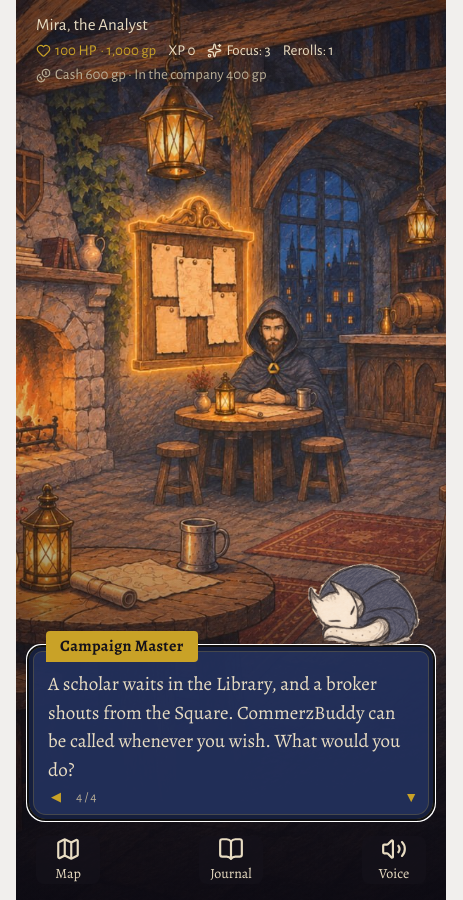
Scenario: new location with an NPC › lists the generated place on the map with a "new" marker and keeps the Tavern reachable
Earlier steps of the test are not shown.
Later steps or results of the test are not shown.
Click the element with test id "dialogue-box" at (231, 733), box x1=28 y1=646 x2=434 y2=820
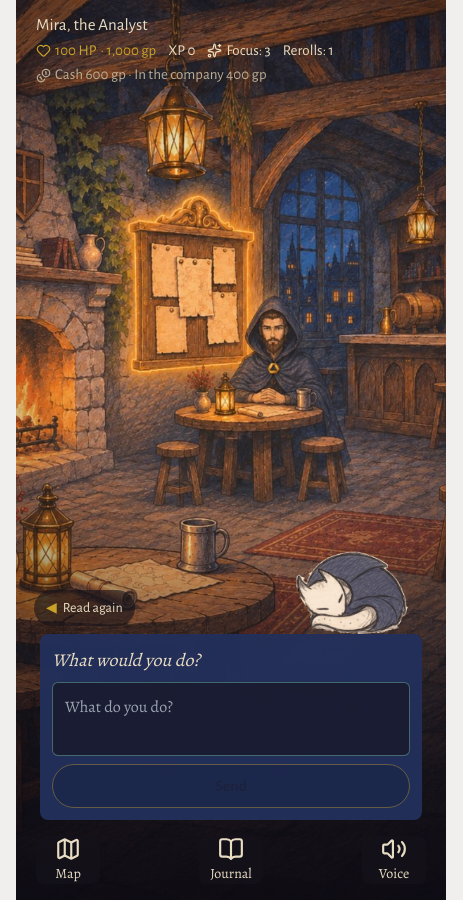
Type "visit the docks warehouse" into the text box at (231, 719), box x1=52 y1=682 x2=410 y2=756
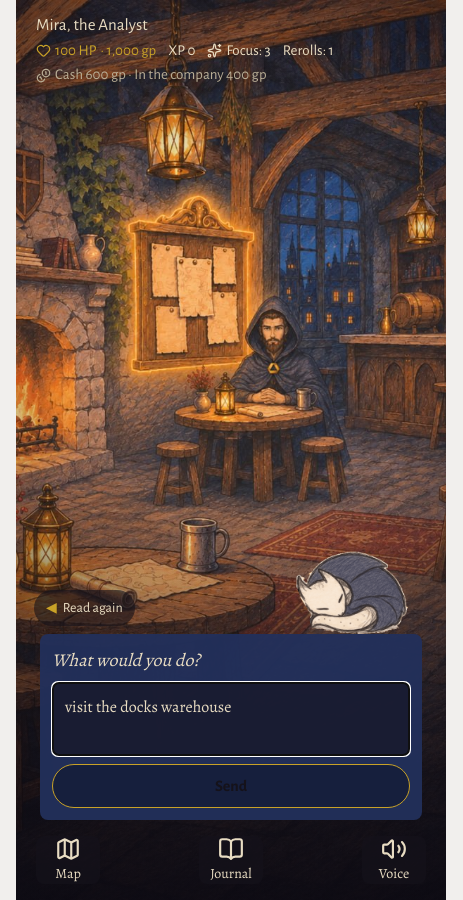
Click the button "Send" at (231, 786), box x1=52 y1=764 x2=410 y2=808
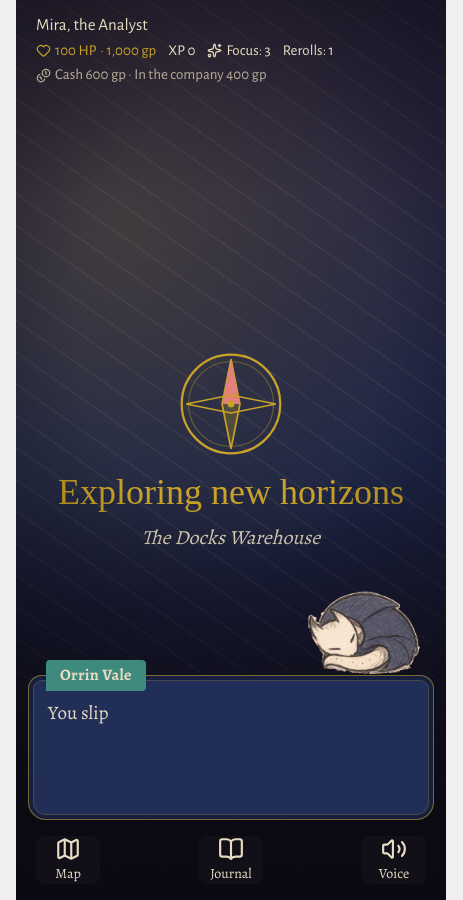
Now the message "Exploring new horizons The Docks Warehouse" is shown
Now the element with test id "dialogue-box" is shown, box x1=28 y1=674 x2=434 y2=820
